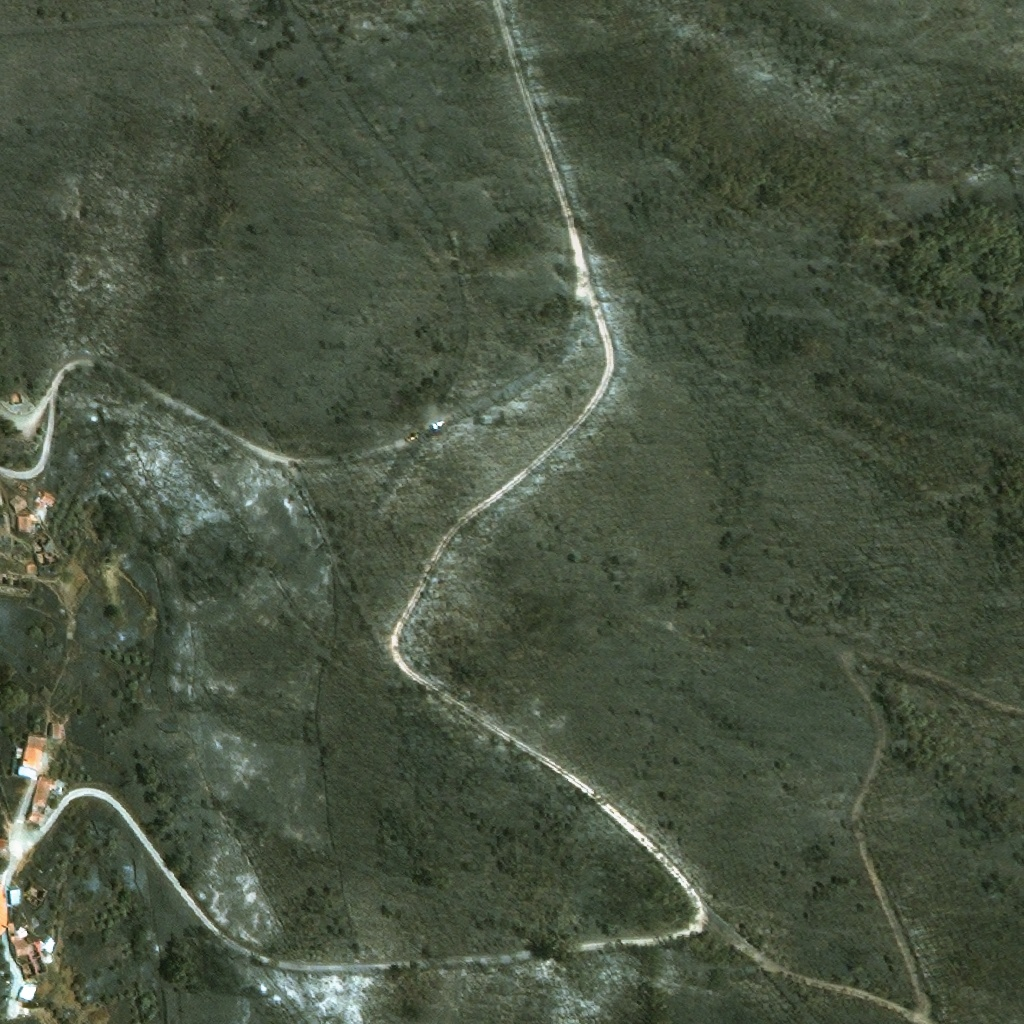0 no-damage: (27, 774, 57, 824), (18, 734, 49, 779), (38, 491, 59, 511), (0, 883, 7, 937), (19, 985, 37, 1001), (9, 495, 27, 510), (18, 515, 32, 531), (52, 723, 66, 739), (25, 561, 39, 575), (10, 888, 22, 904), (0, 839, 8, 850)
2 major-damage: (9, 923, 50, 976)
3 destroyed: (34, 536, 64, 570), (27, 882, 48, 907), (43, 938, 59, 954), (9, 391, 24, 407), (6, 573, 17, 589), (16, 574, 26, 591), (19, 480, 31, 492), (0, 573, 7, 587)
4 un-classified: (0, 516, 6, 524)
